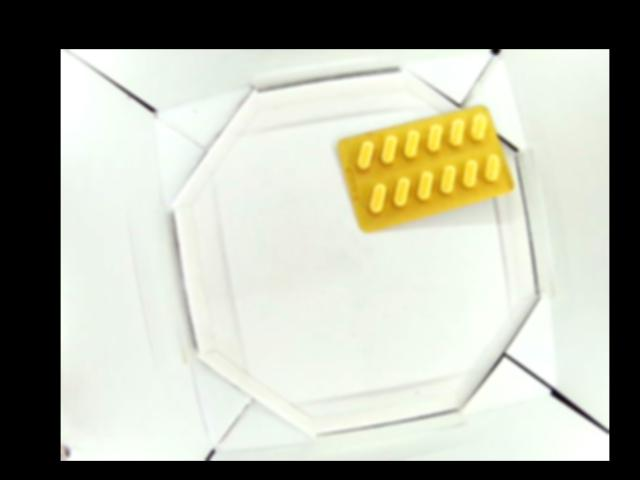Medicine: (335, 103, 514, 231)
